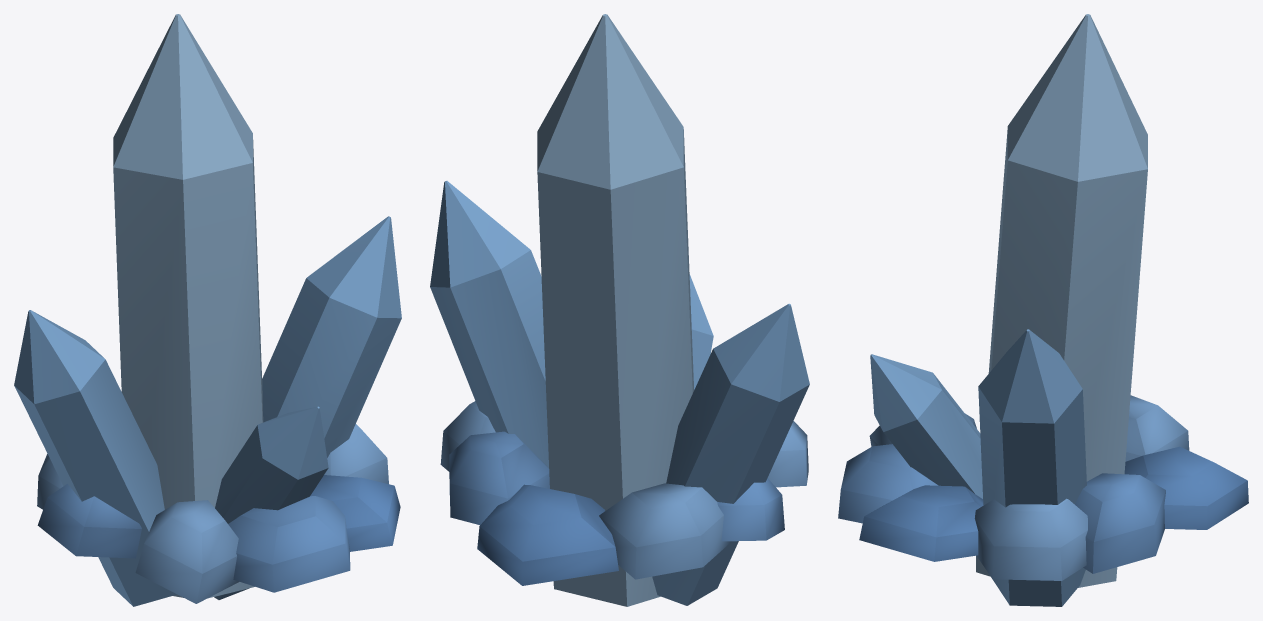
The model's file is IceSpike1.fbx.
3 renders of one model, left to right at view 1: azimuth 30°, elevation 25°; view 2: azimuth 150°, elevation 25°; view 3: azimuth 270°, elevation 25°, orthographic. The views are drawn at different scales.
Visible parts, largest first — view 1: IceSpike; view 2: IceSpike; view 3: IceSpike.
Part boxes in pixels (x1,y1,x2,y2): IceSpike: (14, 14, 401, 606); IceSpike: (430, 14, 809, 606); IceSpike: (838, 14, 1248, 606).
Bounding box in the file's own units: 7.84 × 11.71 × 7.84.
